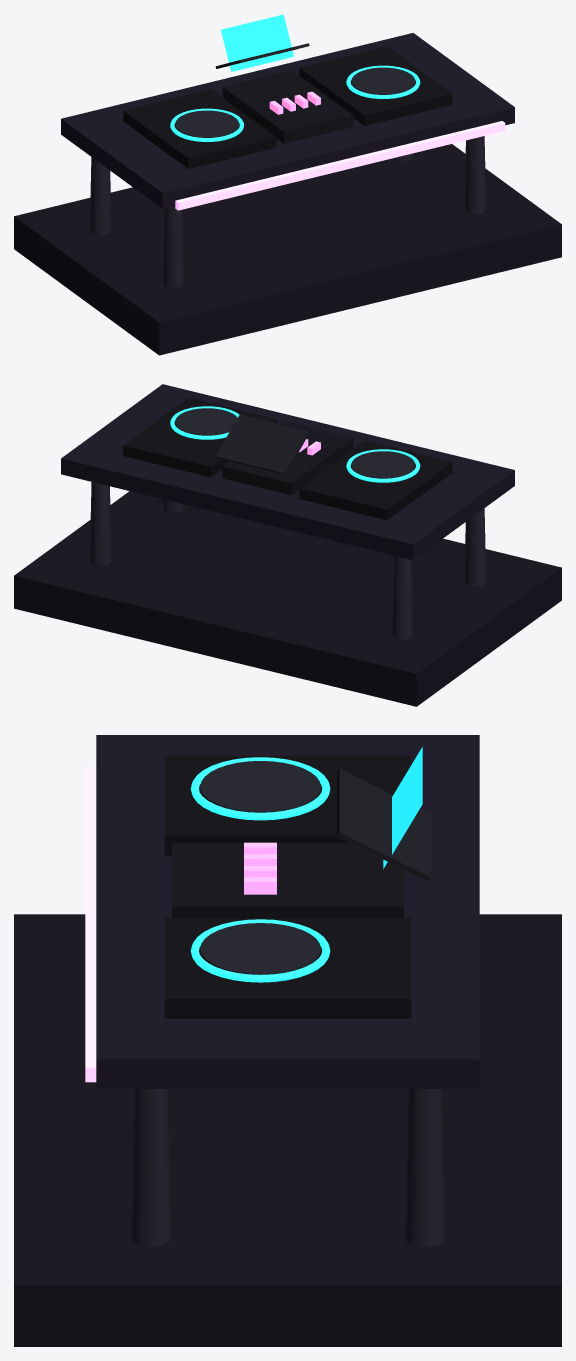
Rendered from DjBooth.glb.
3 views of the same model, one above another, from view 1: azimuth 30°, elevation 25°; view 2: azimuth 150°, elevation 25°; view 3: azimuth 270°, elevation 25° (orthographic). The views are drawn at different scales.
Visible parts, largest first — view 1: DjBooth; view 2: DjBooth; view 3: DjBooth.
Boxes of the visible parts, x1,y1,x2,y2 form: DjBooth: (14, 14, 561, 355); DjBooth: (14, 384, 561, 706); DjBooth: (14, 735, 561, 1346).
Bounding box in the file's own units: 3.2 × 1.56 × 2.
